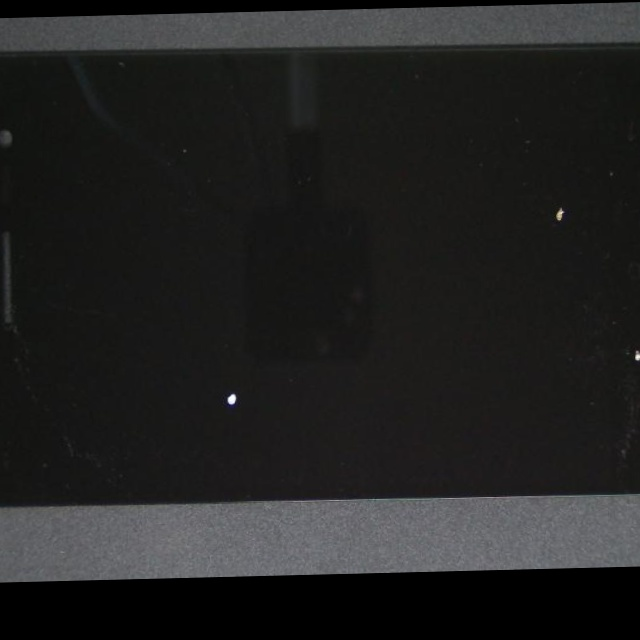stain: (303, 147, 640, 518), (87, 165, 361, 580), (243, 56, 640, 308)
